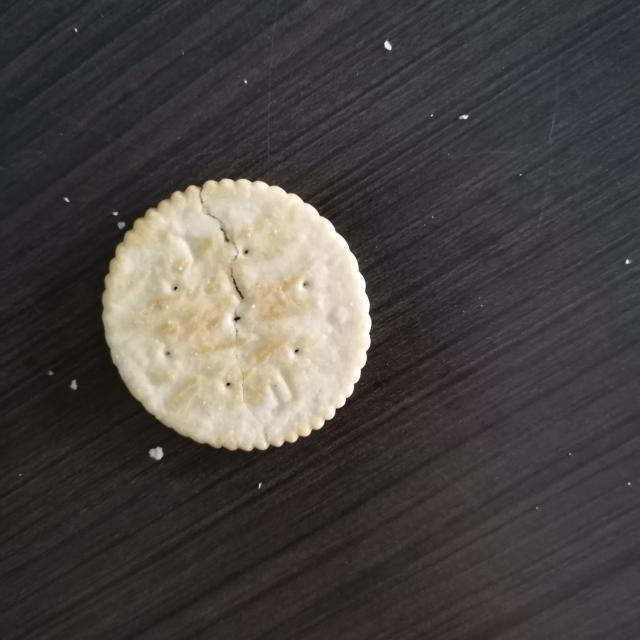Fracture: (185, 177, 265, 450)
